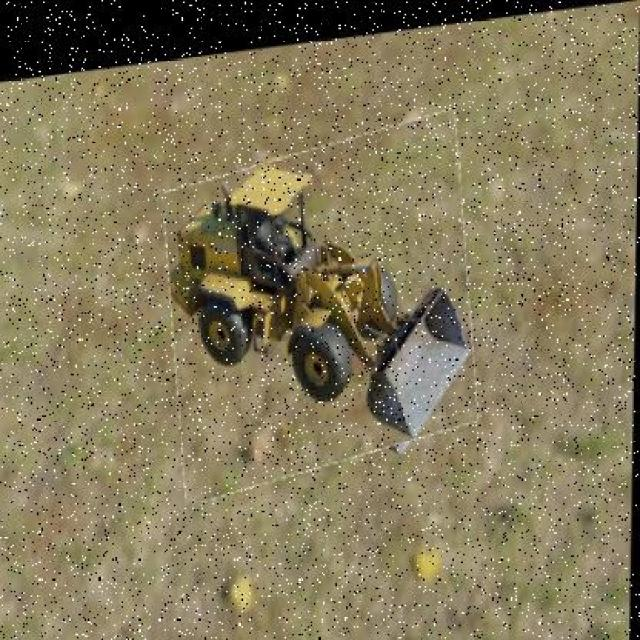buldozerpayloadergrader: (167, 157, 465, 440)
